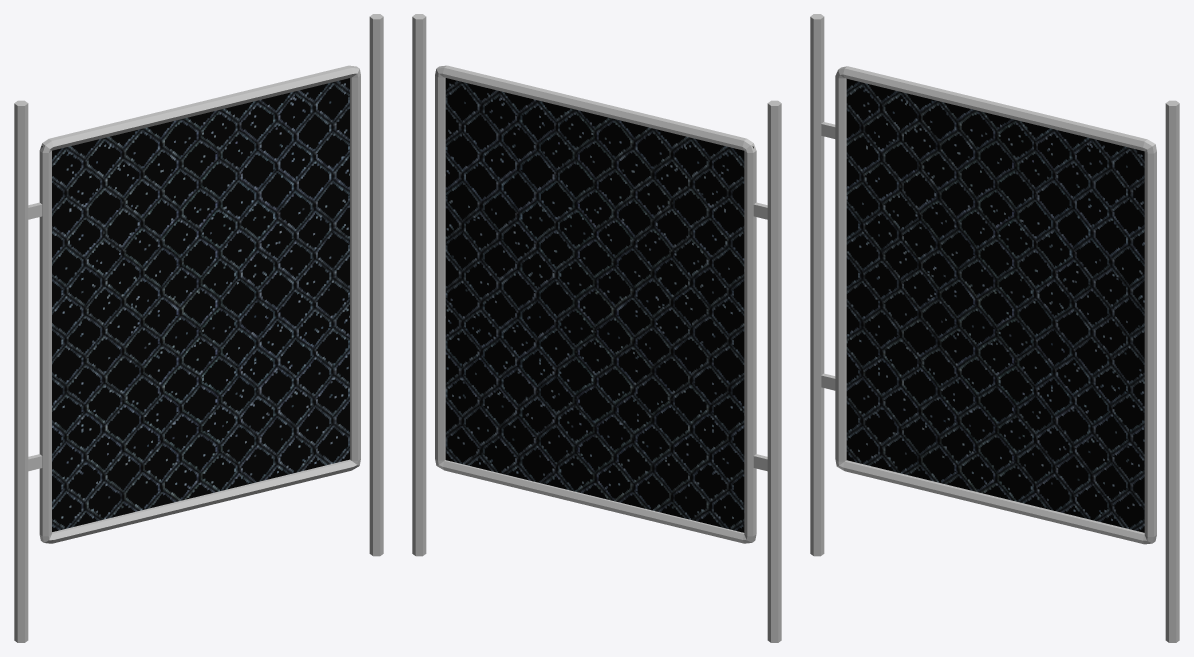
File: Gate.fbx
3 views of the same model, side by side, from view 1: azimuth 30°, elevation 25°; view 2: azimuth 150°, elevation 25°; view 3: azimuth 330°, elevation 25° (orthographic).
Visible parts, largest first — view 1: gate, frame; view 2: gate, frame; view 3: gate, frame.
Part boxes in pixels (left/top/right/bottom): gate: left=39, top=65, right=360, bottom=543; frame: left=14, top=14, right=383, bottom=642; gate: left=435, top=65, right=756, bottom=543; frame: left=412, top=14, right=781, bottom=642; gate: left=835, top=66, right=1156, bottom=544; frame: left=810, top=14, right=1179, bottom=642.
Bounding box in the file's own units: 119 × 167 × 4.
